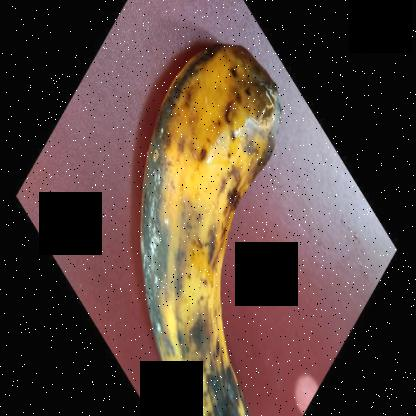rotten: (125, 35, 307, 415)
